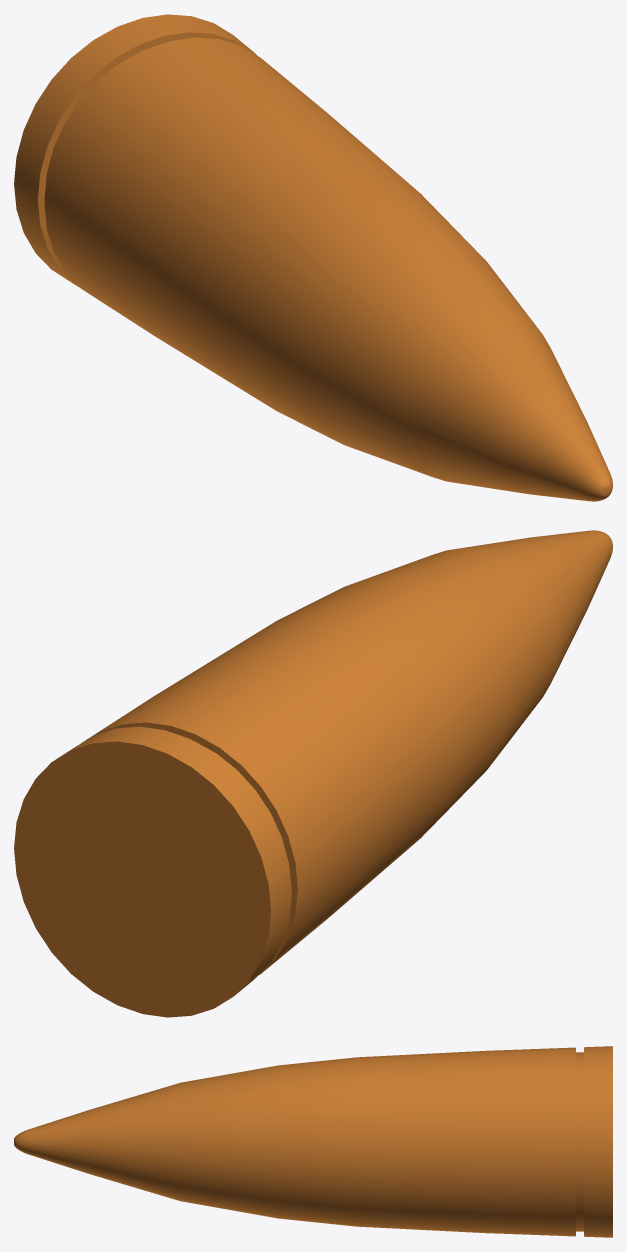
The model's file is Bullet.fbx.
3 renders of one model, top to bottom at view 1: azimuth 30°, elevation 25°; view 2: azimuth 150°, elevation 25°; view 3: azimuth 270°, elevation 25°, orthographic. The views are drawn at different scales.
Parts seen in each view (by area): view 1: Bullet; view 2: Bullet; view 3: Bullet.
Boxes of the visible parts, bbox=[...] form: Bullet: bbox=[14, 14, 612, 501]; Bullet: bbox=[14, 530, 612, 1017]; Bullet: bbox=[14, 1046, 612, 1237].
Bounding box in the file's own units: 0.013 × 0.013 × 0.0404.
